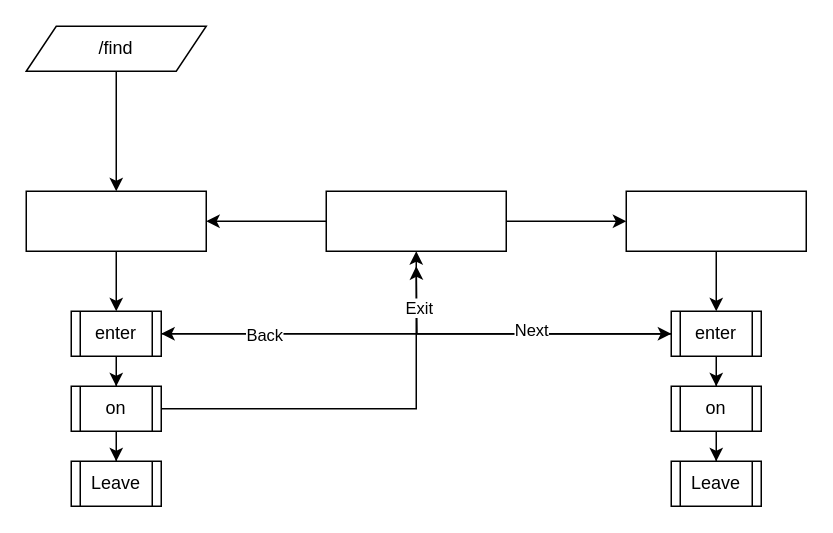
The diagram is 833 pixels wide and 533 high, and some of its shapes have lost their labels. Each missing label, with the centre of its shape:
"Stage" belongs at point 415,220.
"subjectScene" belongs at point 115,220.
"teacherScene" belongs at point 715,220.
